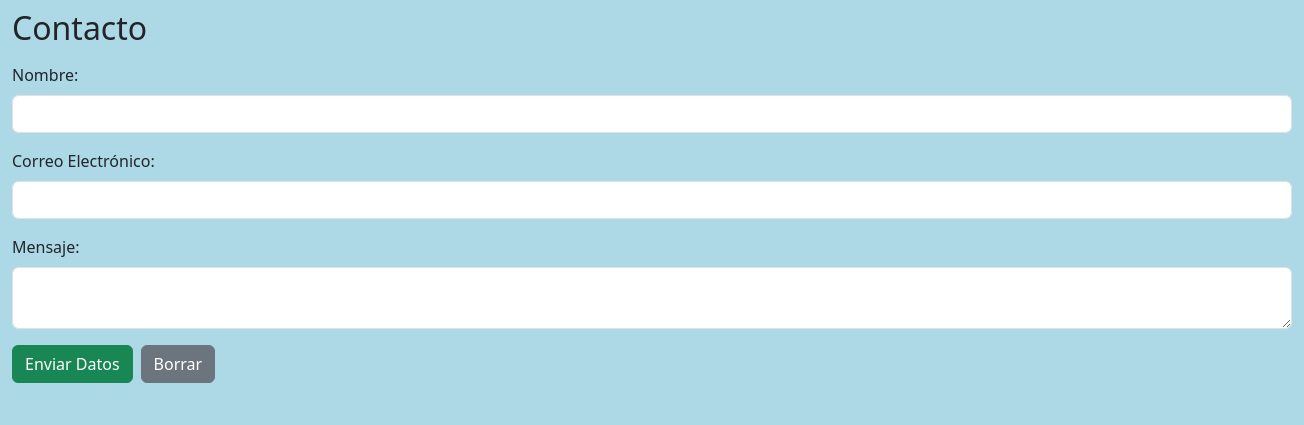
Scenario: Contacto › Muestra error de correo obligatorio al enviar sin email
// completar nombre y mensaje para aislar email
Step 1. Type "Ana" into the field labelled "Nombre:" → (652, 114), box top-left (12, 95), bottom-right (1292, 133)
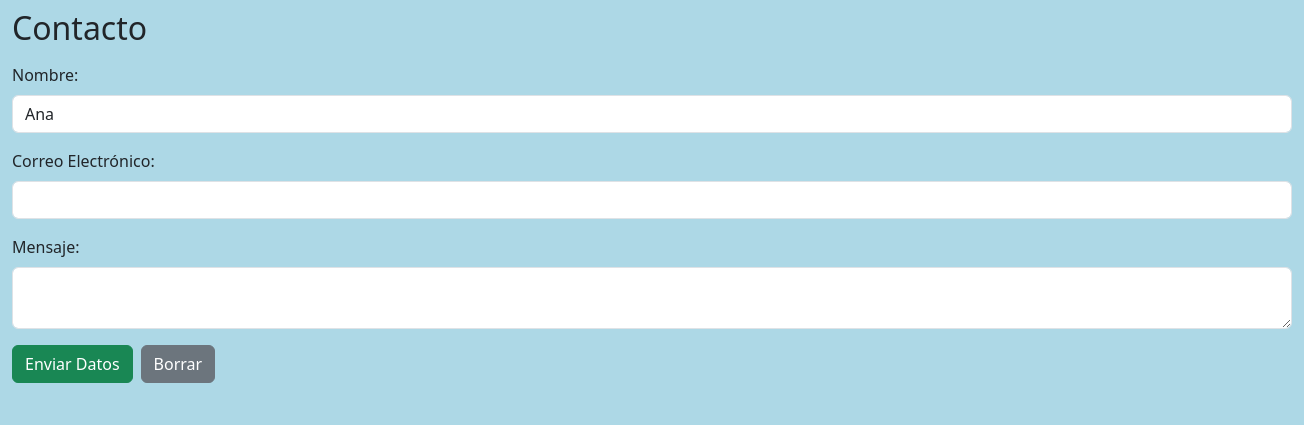
Step 2. Type "Hola" into the text box labelled "Mensaje:" → (652, 298), box top-left (12, 267), bottom-right (1292, 329)
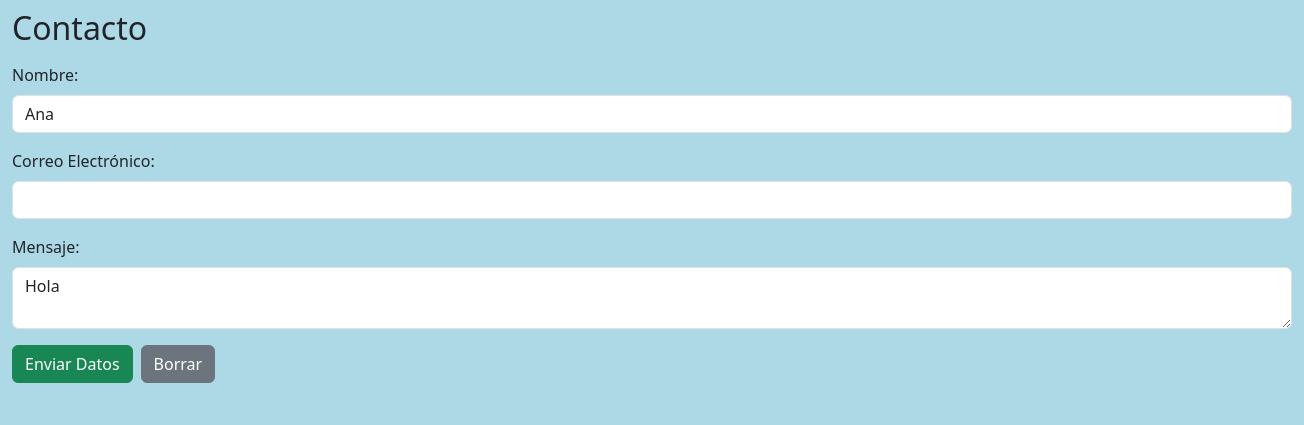
Step 3. Click the button "Enviar Datos" → click(72, 364), box top-left (12, 345), bottom-right (133, 383)
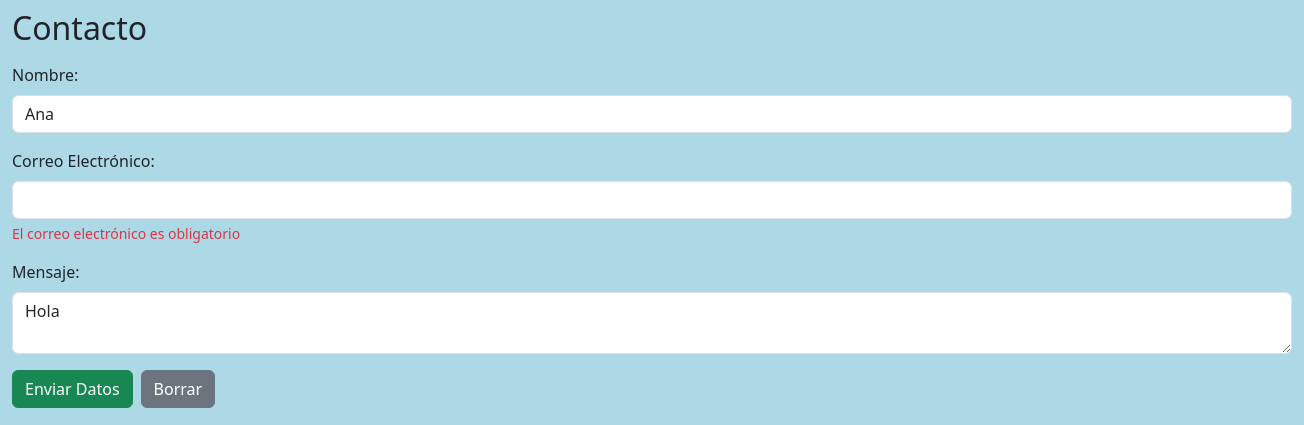
Now the text "El correo electrónico es obligatorio" is shown, box top-left (12, 224), bottom-right (240, 243)
